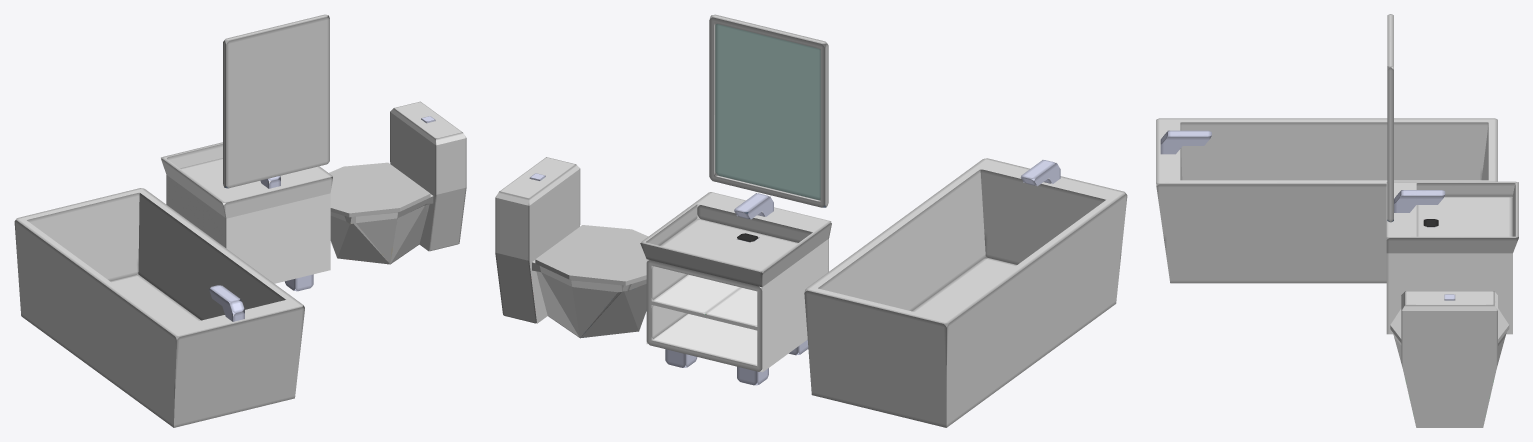
The model's file is Bathroom Assets.fbx.
3 renders of one model, left to right at view 1: azimuth 30°, elevation 25°; view 2: azimuth 150°, elevation 25°; view 3: azimuth 270°, elevation 25°, orthographic. The views are drawn at different scales.
Visible parts, largest first — view 1: BathTub, Sink+Mirror, Toilet, Lid; view 2: BathTub, Sink+Mirror, Toilet, Lid; view 3: BathTub, Sink+Mirror, Toilet, Lid.
Part boxes in pixels (bbox=[...]): BathTub: bbox=[14, 188, 304, 427]; Sink+Mirror: bbox=[161, 14, 332, 291]; Toilet: bbox=[330, 101, 466, 264]; Lid: bbox=[329, 162, 430, 217]; BathTub: bbox=[804, 158, 1127, 427]; Sink+Mirror: bbox=[640, 14, 831, 385]; Toilet: bbox=[495, 157, 646, 338]; Lid: bbox=[535, 225, 648, 285]; BathTub: bbox=[1156, 118, 1497, 283]; Sink+Mirror: bbox=[1386, 14, 1518, 334]; Toilet: bbox=[1393, 291, 1506, 427]; Lid: bbox=[1390, 308, 1509, 342].
Size of the model in its own units: 415 by 266 by 305.
Materials: 4 (4 with a texture image).
